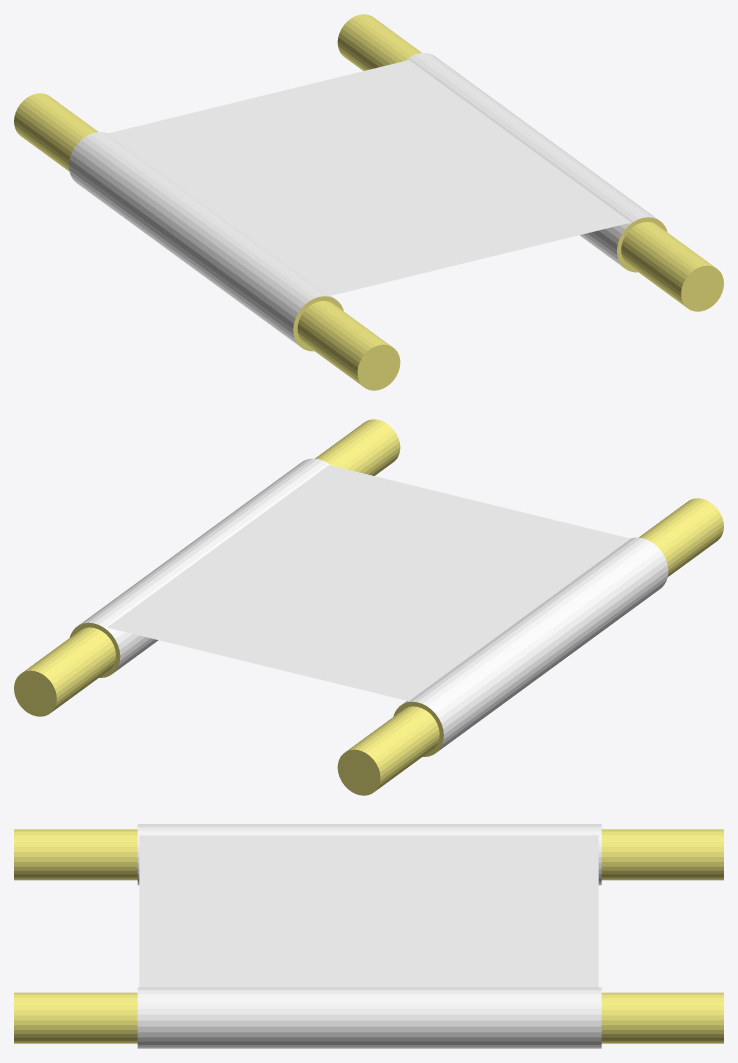
File: Tanker.fbx
The picture shows the model from 3 angles, top to bottom: view 1: azimuth 30°, elevation 25°; view 2: azimuth 150°, elevation 25°; view 3: azimuth 270°, elevation 25°; orthographic projection. The views are drawn at different scales.
Visible parts, largest first — view 1: 平面, 円柱, 円柱.001; view 2: 平面, 円柱, 円柱.001; view 3: 平面, 円柱.001, 円柱.
Part boxes in pixels (x1,y1,x2,y2): 平面: [107, 60, 630, 296]; 円柱: [14, 93, 400, 390]; 円柱.001: [337, 14, 723, 311]; 平面: [107, 465, 630, 701]; 円柱: [337, 498, 723, 795]; 円柱.001: [14, 419, 400, 716]; 平面: [139, 835, 598, 987]; 円柱.001: [14, 987, 723, 1048]; 円柱: [14, 824, 723, 885].
Bounding box in the file's own units: 579 × 79.45 × 919.
